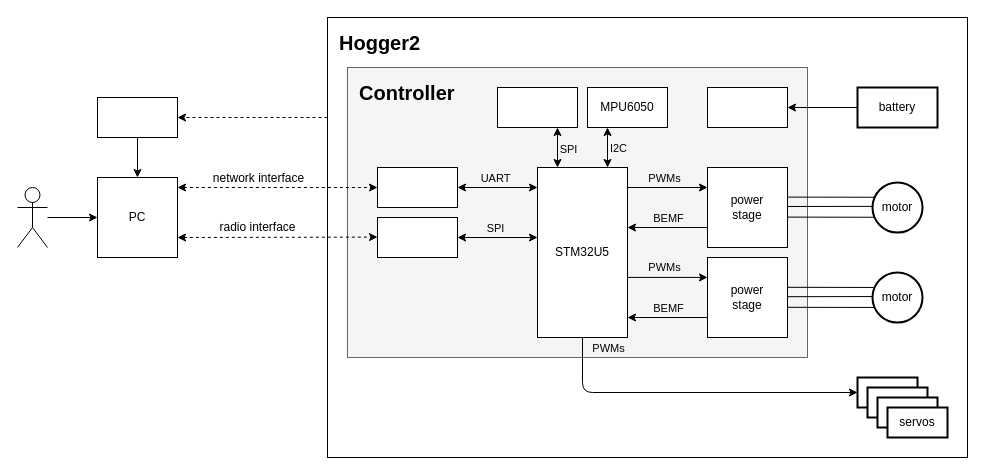
Some shapes in this 985 by 475 pixel diagram are drawn without their labels. Each missing label, with the centre of its shape:
"camera system" belongs at point 137,117.
"ESP32C3" belongs at point 417,187.
"nRF24L01+" belongs at point 417,237.
"PMW3901" belongs at point 537,107.
"power circuits" belongs at point 747,107.
